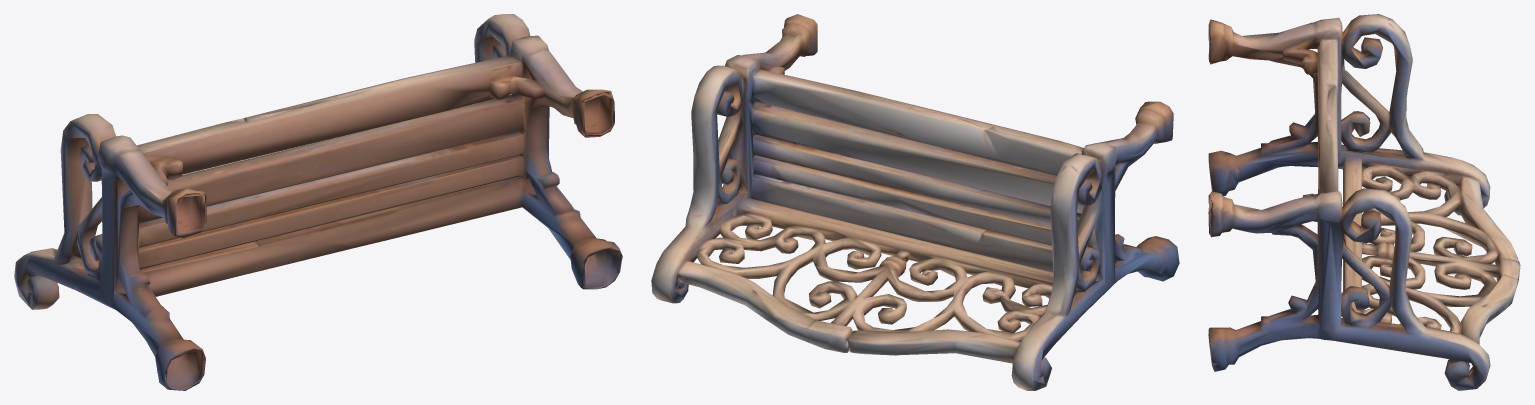
3 views of the same model, side by side, from view 1: azimuth 30°, elevation 25°; view 2: azimuth 150°, elevation 25°; view 3: azimuth 270°, elevation 25° (orthographic). The views are drawn at different scales.
Parts seen in each view (by area): view 1: material; view 2: material; view 3: material.
Boxes of the visible parts, left/top/right/bottom form: material: left=14, top=14, right=622, bottom=390; material: left=651, top=14, right=1179, bottom=390; material: left=1208, top=14, right=1520, bottom=390.
Bounding box in the file's own units: 1 × 0.4759 × 0.6805.
1 material, 1 textured.
